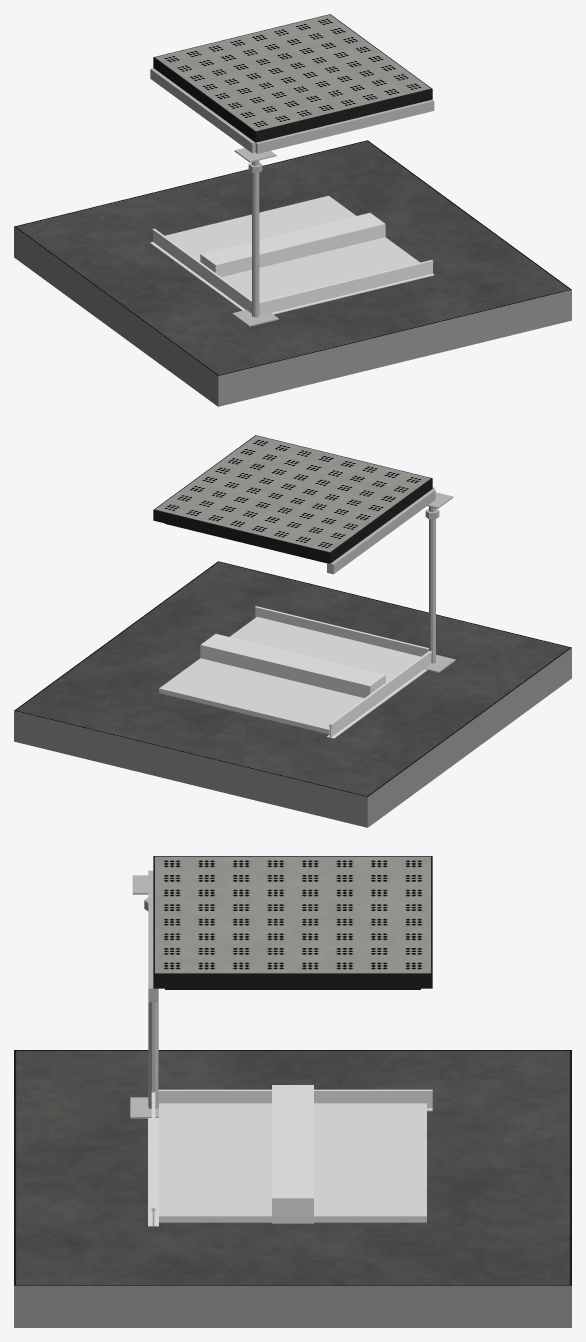
Rendered from hall_07_tiles.glb.
The picture shows the model from 3 angles, top to bottom: view 1: azimuth 30°, elevation 25°; view 2: azimuth 150°, elevation 25°; view 3: azimuth 270°, elevation 25°; orthographic projection. The views are drawn at different scales.
Parts seen in each view (by area): view 1: Top__TL_C, Body__TL_C, Top__TL_RP, Tile_Body__TL_CP, Luminaire_Housing__TL_CL, Panel__TL_RP, Stringer_X__TL_RP, TBar_X_Web__TL_CP, Stringer_Y__TL_RP, Pedestal_Stem__TL_RP, TBar_Y_Web__TL_CP, TBar_X_Bulb__TL_CP (+1 smaller); view 2: Top__TL_C, Body__TL_C, Top__TL_RP, Tile_Body__TL_CP, Luminaire_Housing__TL_CL, Panel__TL_RP, Stringer_Y__TL_RP, TBar_X_Web__TL_CP, TBar_Y_Web__TL_CP, Pedestal_Stem__TL_RP, TBar_X_Bulb__TL_CP, TBar_Y_Bulb__TL_CP; view 3: Top__TL_C, Top__TL_RP, Tile_Body__TL_CP, Body__TL_C, Luminaire_Housing__TL_CL, Panel__TL_RP, TBar_Y_Web__TL_CP, TBar_Y_Bulb__TL_CP, Pedestal_Stem__TL_RP, TBar_X_Flange__TL_CP, Stringer_X__TL_RP, TBar_X_Bulb__TL_CP.
Boxes of the visible parts, bbox=[...] form: Top__TL_C: bbox=[14, 140, 571, 375]; Body__TL_C: bbox=[14, 227, 571, 406]; Top__TL_RP: bbox=[155, 14, 430, 131]; Tile_Body__TL_CP: bbox=[165, 195, 419, 301]; Luminaire_Housing__TL_CL: bbox=[200, 213, 385, 276]; Panel__TL_RP: bbox=[153, 14, 432, 142]; Stringer_X__TL_RP: bbox=[255, 99, 434, 153]; TBar_X_Web__TL_CP: bbox=[259, 263, 432, 314]; Stringer_Y__TL_RP: bbox=[150, 68, 255, 153]; Pedestal_Stem__TL_RP: bbox=[252, 160, 259, 317]; TBar_Y_Web__TL_CP: bbox=[153, 232, 251, 313]; TBar_X_Bulb__TL_CP: bbox=[259, 260, 433, 305]; Top__TL_C: bbox=[14, 561, 571, 796]; Body__TL_C: bbox=[14, 648, 571, 827]; Top__TL_RP: bbox=[155, 435, 430, 552]; Tile_Body__TL_CP: bbox=[159, 616, 420, 734]; Luminaire_Housing__TL_CL: bbox=[200, 634, 385, 697]; Panel__TL_RP: bbox=[153, 435, 432, 563]; Stringer_Y__TL_RP: bbox=[327, 489, 435, 574]; TBar_X_Web__TL_CP: bbox=[255, 609, 427, 656]; TBar_Y_Web__TL_CP: bbox=[329, 654, 431, 737]; Pedestal_Stem__TL_RP: bbox=[429, 507, 435, 663]; TBar_X_Bulb__TL_CP: bbox=[255, 606, 428, 651]; TBar_Y_Bulb__TL_CP: bbox=[329, 650, 431, 727]; Top__TL_C: bbox=[14, 1050, 571, 1285]; Top__TL_RP: bbox=[155, 856, 430, 973]; Tile_Body__TL_CP: bbox=[159, 1103, 426, 1222]; Body__TL_C: bbox=[14, 1285, 571, 1327]; Luminaire_Housing__TL_CL: bbox=[272, 1085, 313, 1223]; Panel__TL_RP: bbox=[153, 856, 432, 988]; TBar_Y_Web__TL_CP: bbox=[158, 1094, 432, 1108]; TBar_Y_Bulb__TL_CP: bbox=[158, 1089, 432, 1094]; Pedestal_Stem__TL_RP: bbox=[148, 1002, 158, 1108]; TBar_X_Flange__TL_CP: bbox=[148, 1118, 158, 1226]; Stringer_X__TL_RP: bbox=[148, 870, 158, 1002]; TBar_X_Bulb__TL_CP: bbox=[151, 1092, 155, 1211].
Size of the model in its own units: 1.2 by 0.7003 by 1.2.
12 materials, 5 textured.
